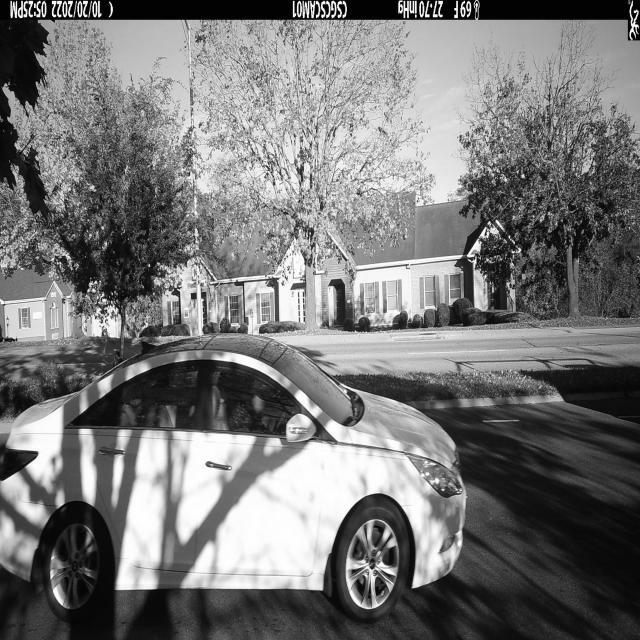Sedan: (0, 334, 467, 622)
